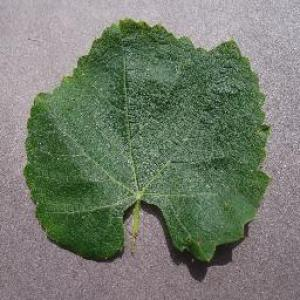Folha: (22, 16, 272, 264)
